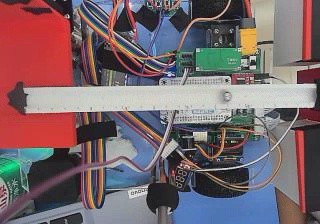ironball: (221, 90, 231, 101)
